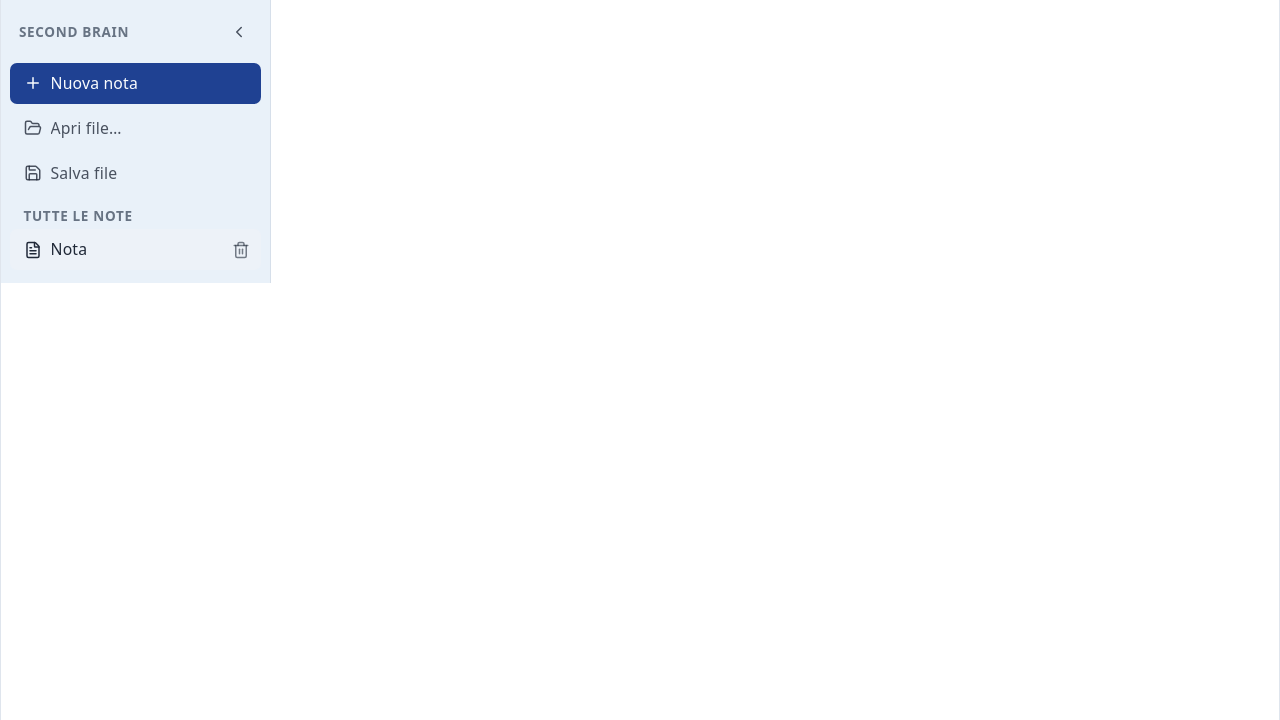
Sidebar — eliminazione nota › il cestino chiede conferma invece di eliminare subito
Click the button named "Elimina «Nota»".
click(241, 250)  # box [225,234,256,266]
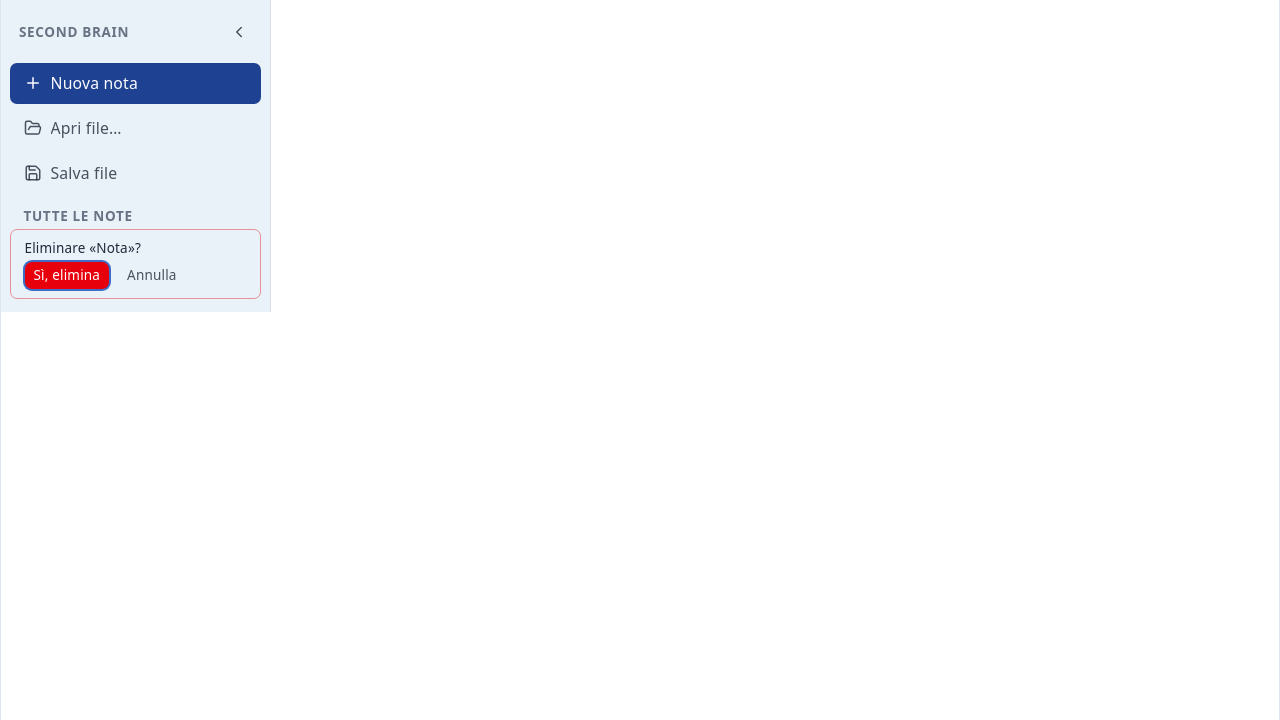
Now the text "Eliminare «Nota»?" is shown, box [24,240,141,258]
